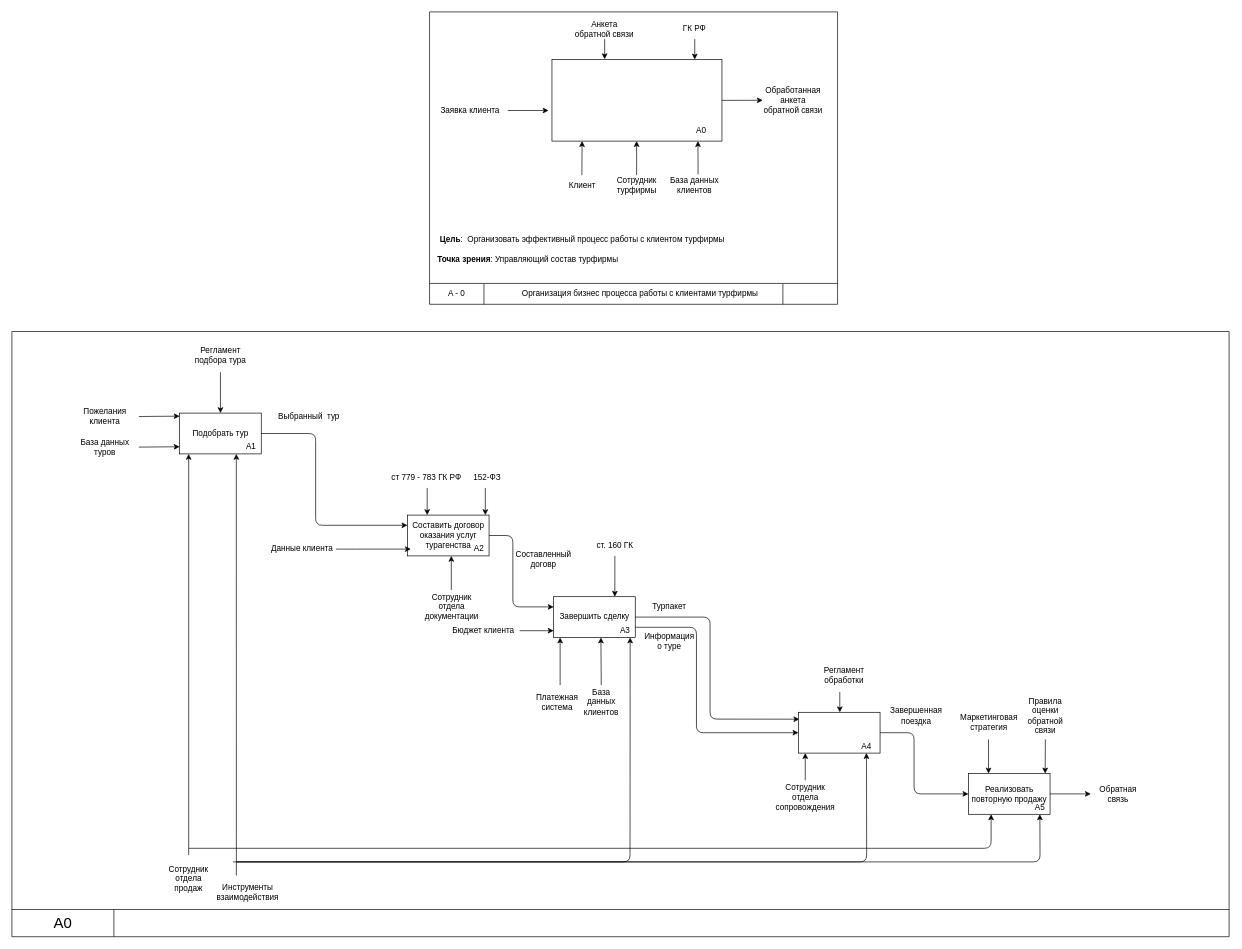
Image size: 1242x949. Some labels were removed from this diagram. Each missing label, with the box of its shape:
Обработать клиента и заключить туристический договор: (551, 59, 722, 141)
Сопроводить клиента в поездке: (798, 712, 880, 753)
